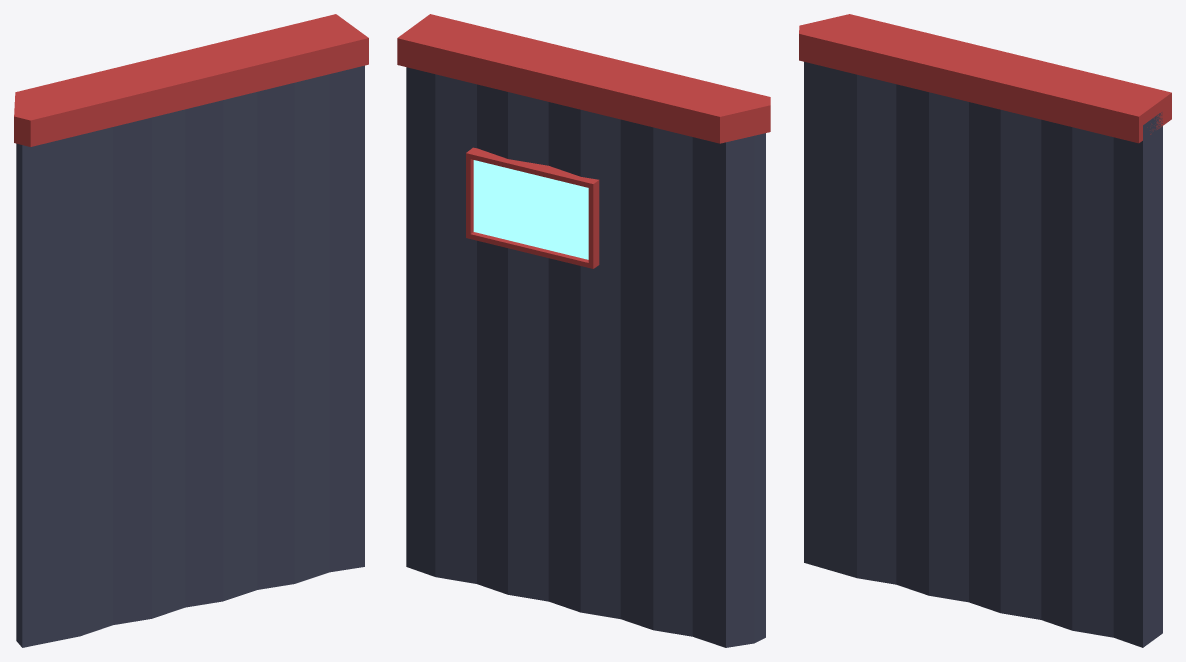
Rendered from small_wall_corner_right.fbx.
3 renders of one model, left to right at view 1: azimuth 30°, elevation 25°; view 2: azimuth 150°, elevation 25°; view 3: azimuth 330°, elevation 25°, orthographic.
Visible parts, largest first — view 1: WarehouseInnerWall; view 2: WarehouseInnerWall; view 3: WarehouseInnerWall.
Part boxes in pixels (bbox=[...]): WarehouseInnerWall: bbox=[14, 14, 368, 647]; WarehouseInnerWall: bbox=[397, 14, 770, 647]; WarehouseInnerWall: bbox=[799, 14, 1171, 647].
Bounding box in the file's own units: 136 × 200 × 22.36.
